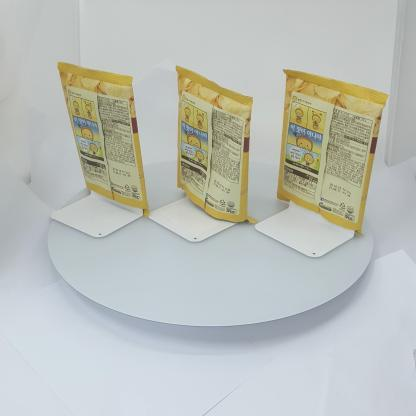Plastic Packaging: (276, 68, 390, 233), (50, 53, 154, 216), (171, 66, 257, 224)
